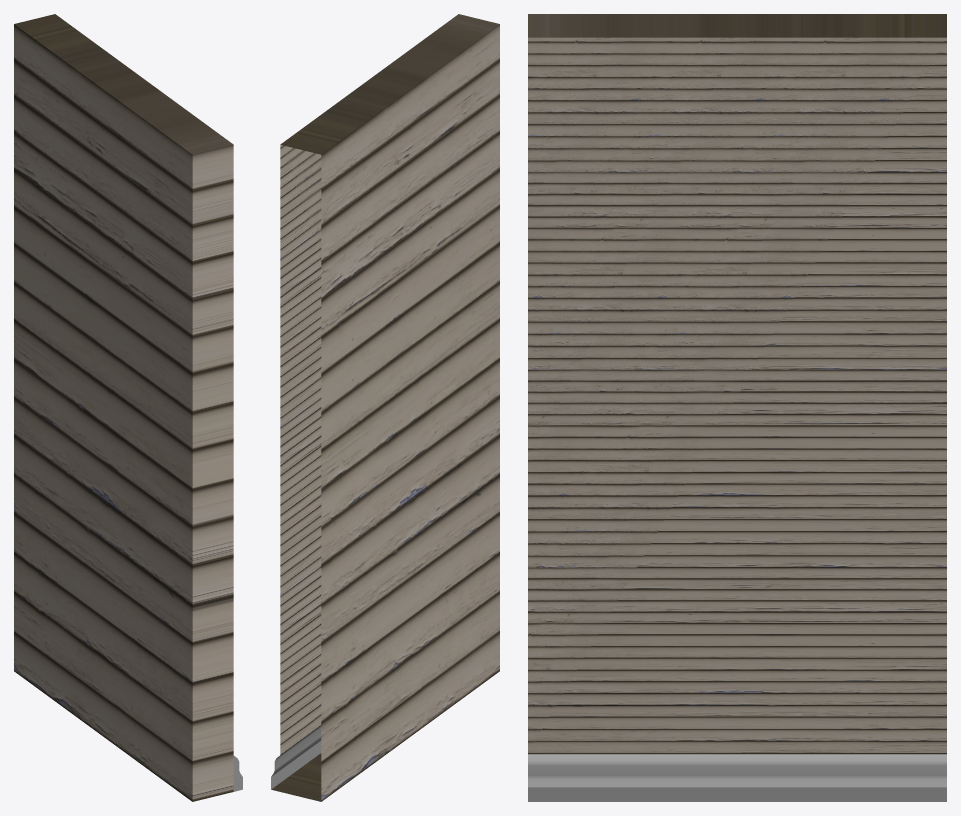
Rendered from WallBaseHalf.fbx.
The picture shows the model from 3 angles, left to right: view 1: azimuth 30°, elevation 25°; view 2: azimuth 150°, elevation 25°; view 3: azimuth 270°, elevation 25°; orthographic projection. The views are drawn at different scales.
Parts seen in each view (by area): view 1: pCube1; view 2: pCube1; view 3: pCube1.
Boxes of the visible parts, x1,y1,x2,y2 form: pCube1: (14, 14, 242, 801); pCube1: (271, 14, 499, 801); pCube1: (528, 14, 946, 801).
Size of the model in its own units: 0.2443 by 3 by 1.5.
